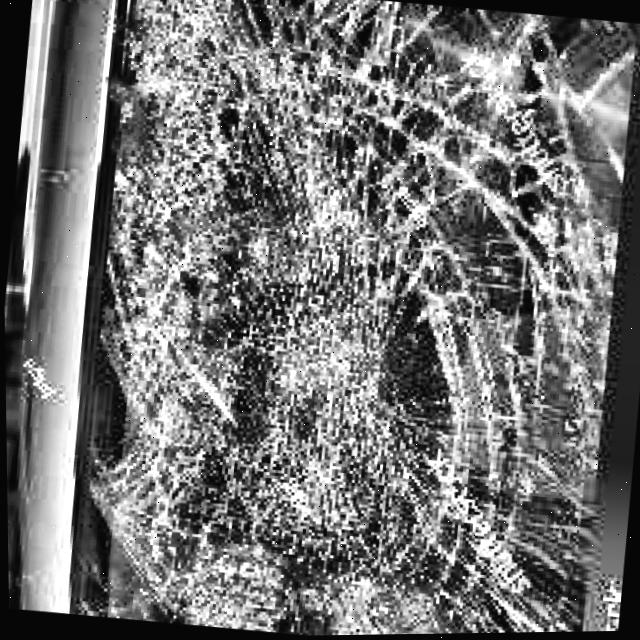glass_shatter: (94, 239, 433, 613)
